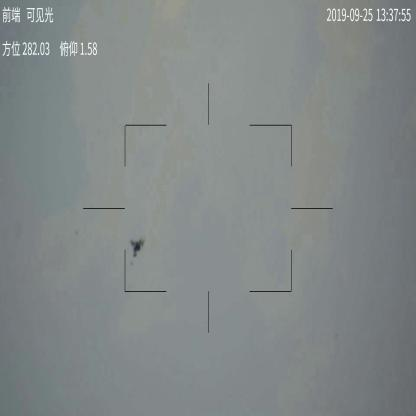uav: (127, 236, 148, 264)
